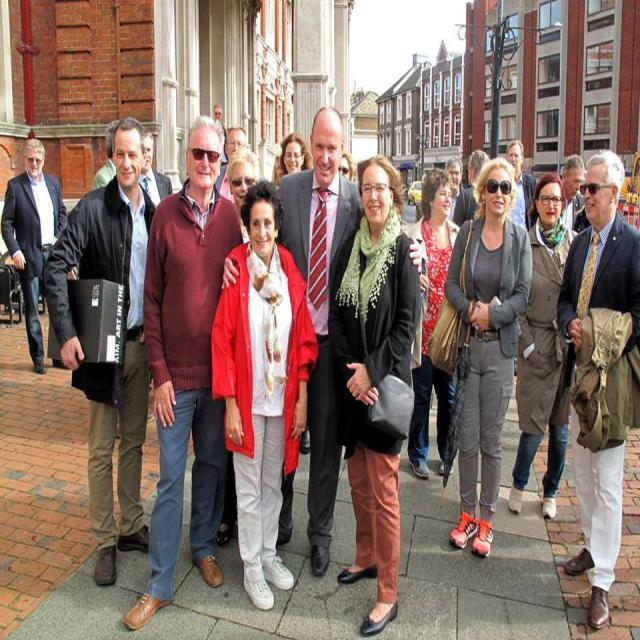body: (220, 104, 424, 582), (283, 370, 640, 640), (120, 114, 250, 634), (88, 115, 599, 240), (40, 119, 157, 592), (0, 358, 196, 604), (210, 176, 320, 614), (325, 152, 423, 639), (424, 154, 533, 560), (553, 147, 639, 636), (504, 170, 578, 522), (406, 166, 462, 480), (0, 136, 73, 376), (224, 145, 263, 242), (503, 138, 542, 234), (452, 147, 492, 227), (214, 124, 247, 204), (273, 131, 314, 189), (560, 152, 586, 231), (443, 155, 468, 225), (212, 103, 230, 193), (270, 152, 313, 178)
